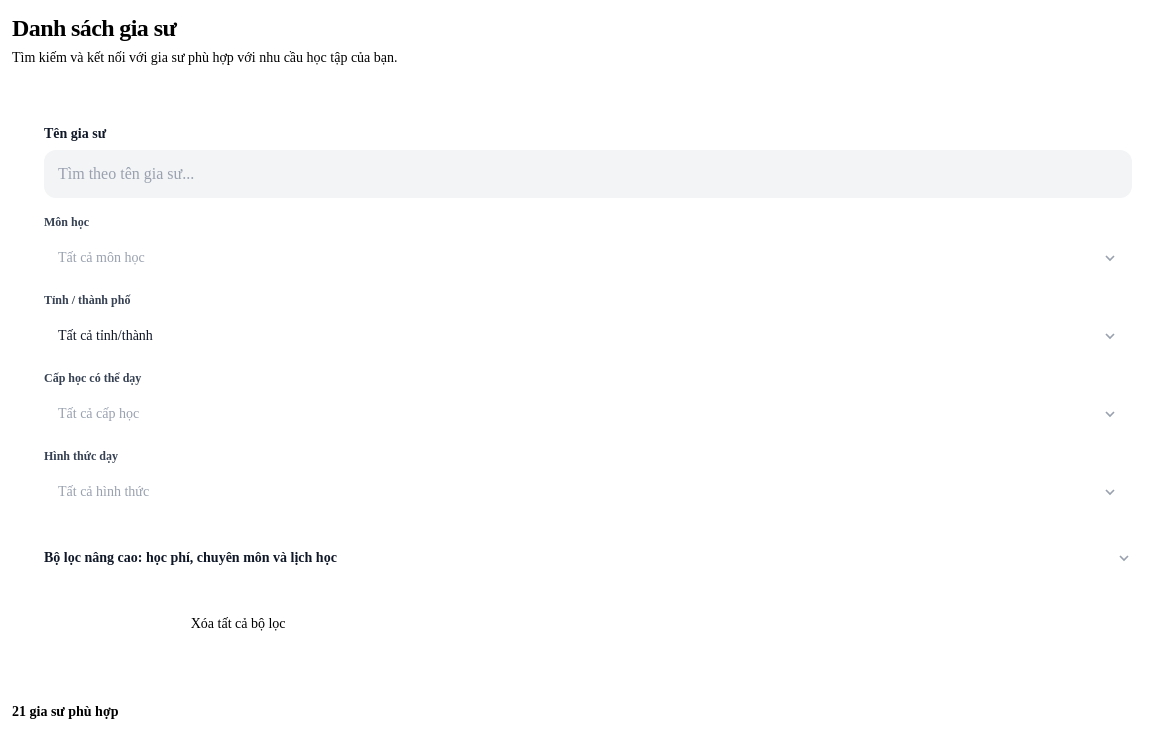
Scenario: clears unsaved filter input even when the URL is already empty
Expected: the button labelled "Tất cả môn học" is shown, [44, 236, 1132, 280]
Type "Draft filter" into the field labelled "Tên gia sư". click: x=588, y=174
box: [44, 150, 1132, 198]
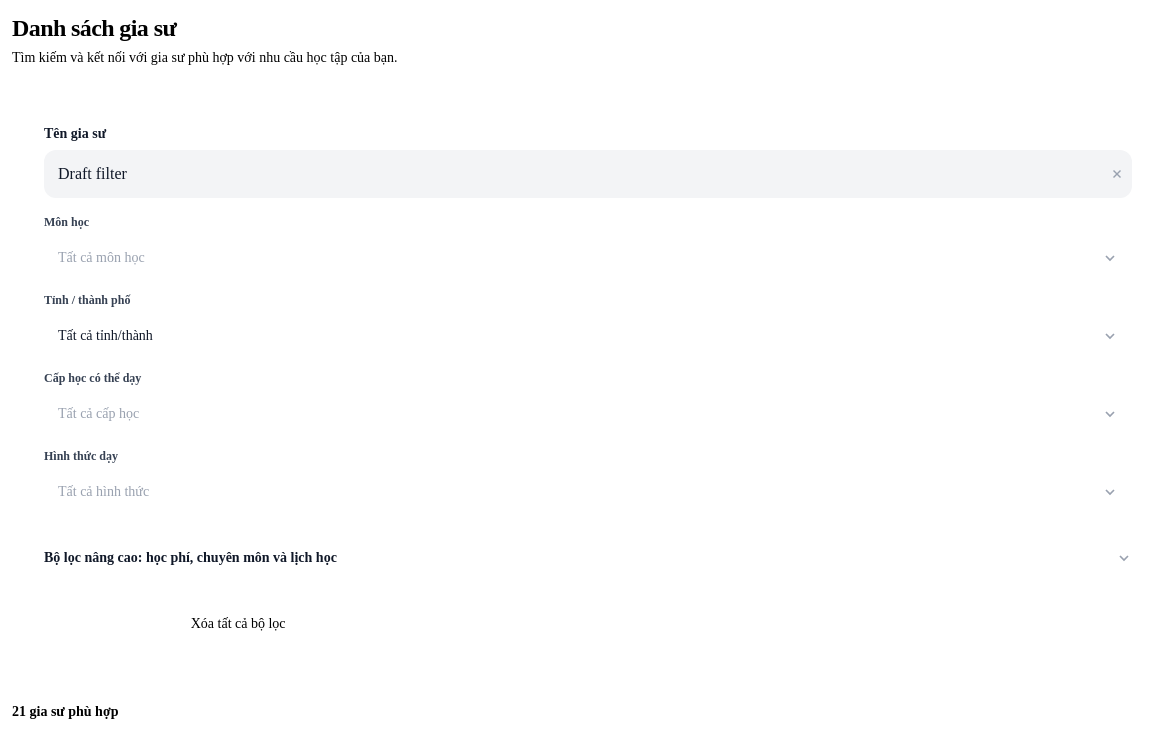
Click the button labelled "Tất cả môn học". click: x=101, y=258
box: [44, 236, 1132, 280]
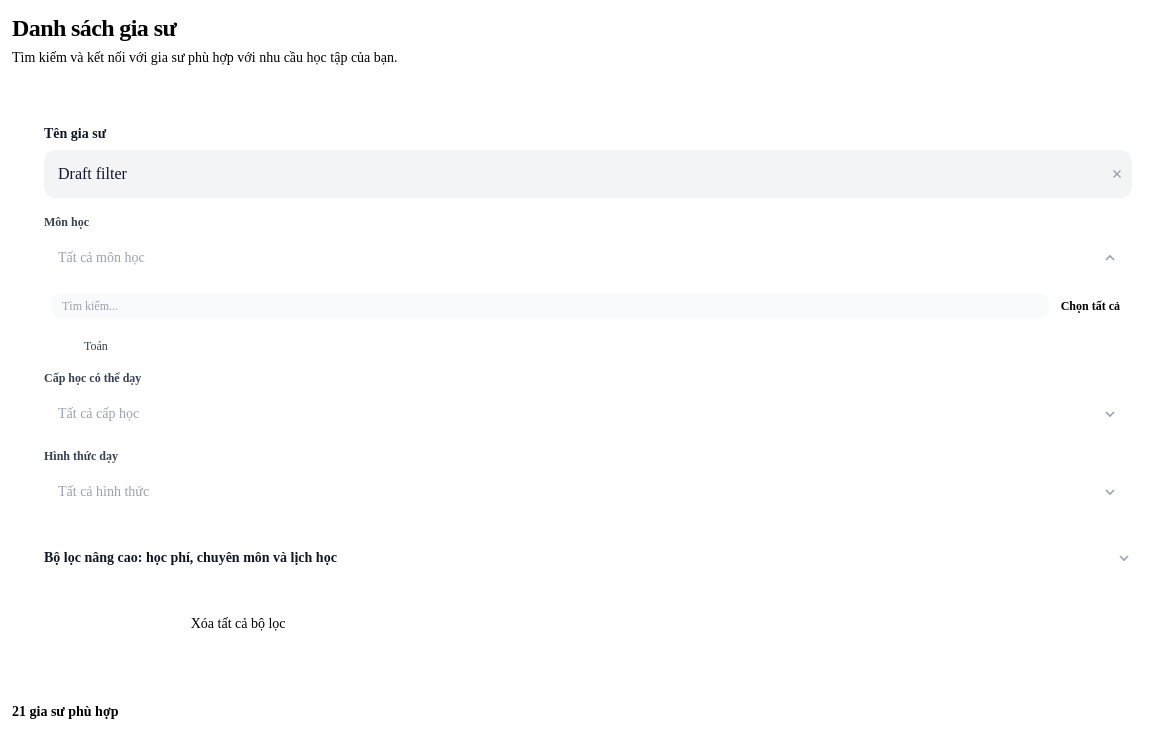
Press Enter in the option "Toán", box [58, 338, 108, 354]
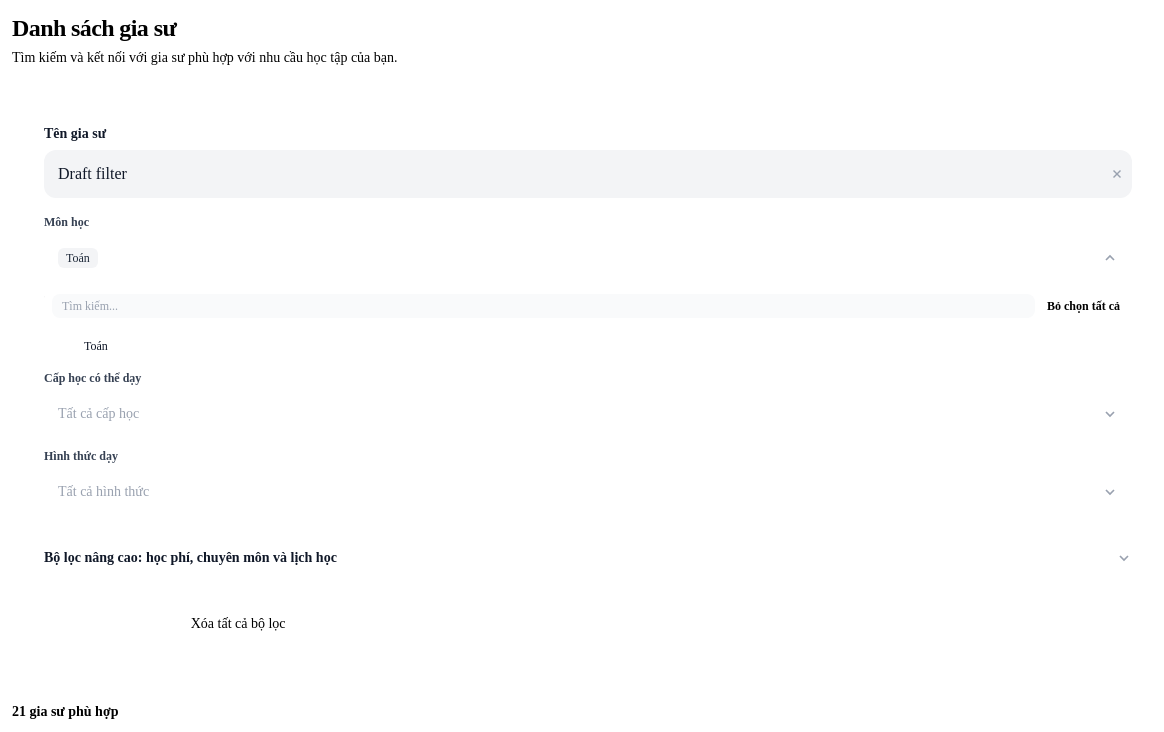
Click the button named "Môn học". click: x=78, y=258
box: [44, 236, 1132, 280]
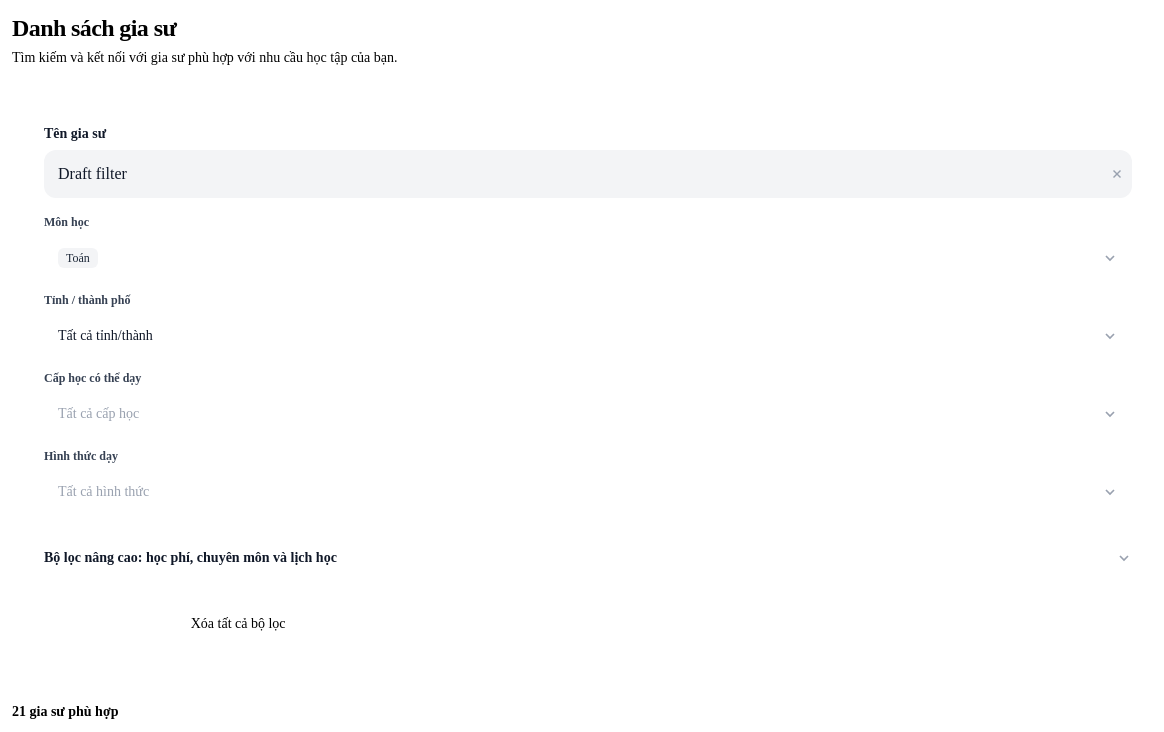
Click the button "Xóa tất cả bộ lọc". click: x=238, y=624
box: [175, 602, 302, 646]
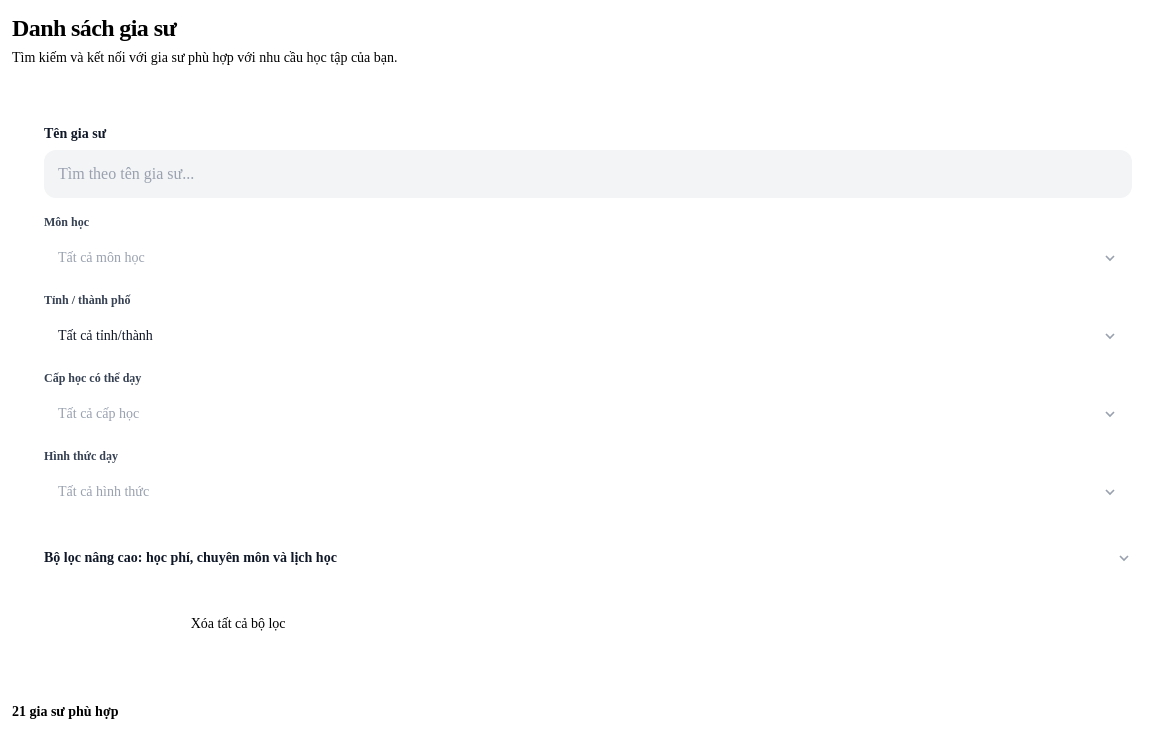
Expected: the field labelled "Tên gia sư" is empty, [44, 150, 1132, 198]
Expected: the button labelled "Tất cả môn học" is shown, [44, 236, 1132, 280]
